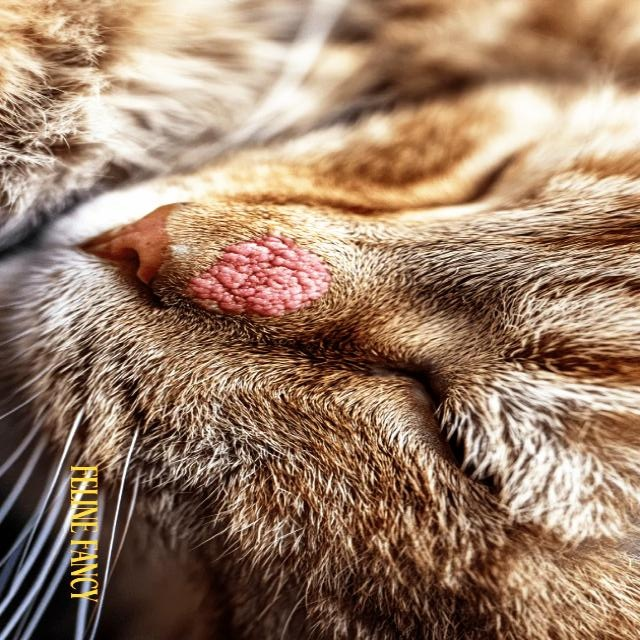lump_and_bump: (186, 239, 334, 315)
